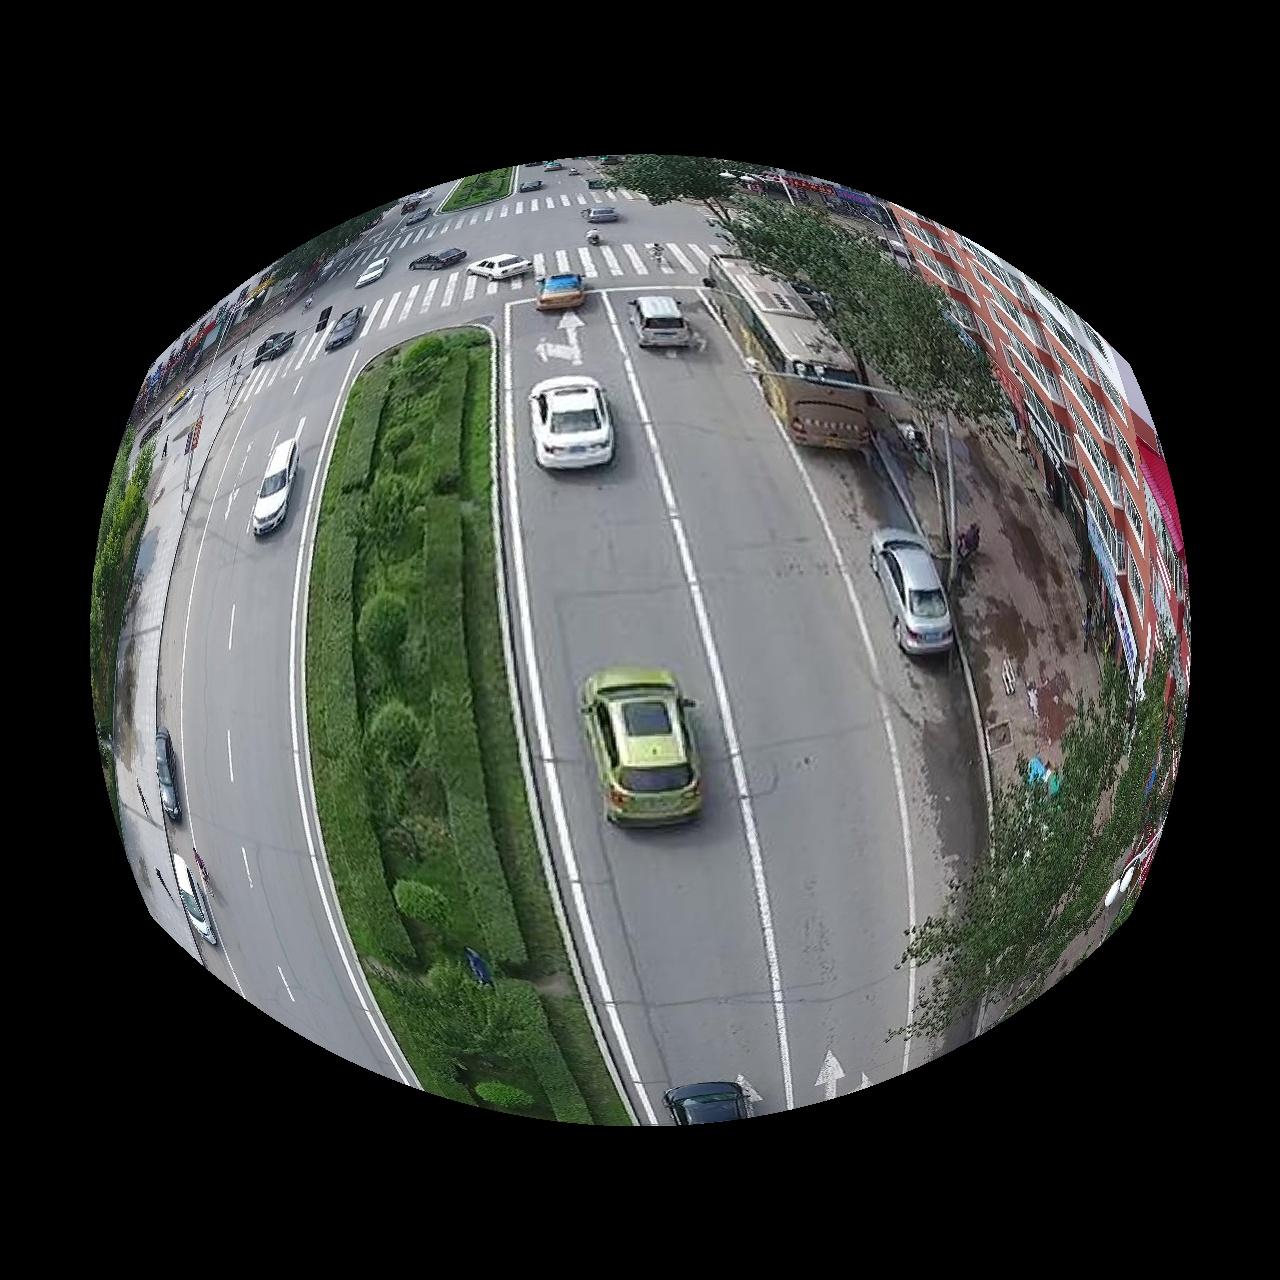cars: (706, 255, 872, 448), (581, 667, 702, 828), (871, 528, 956, 655), (530, 375, 615, 469), (250, 438, 297, 536), (171, 856, 217, 946), (665, 1083, 752, 1128), (631, 295, 692, 346), (154, 727, 180, 822), (536, 272, 586, 310), (467, 252, 532, 280), (323, 305, 362, 351), (409, 246, 467, 270), (354, 255, 389, 286)
trees: (306, 330, 628, 1126), (727, 197, 1008, 476)
